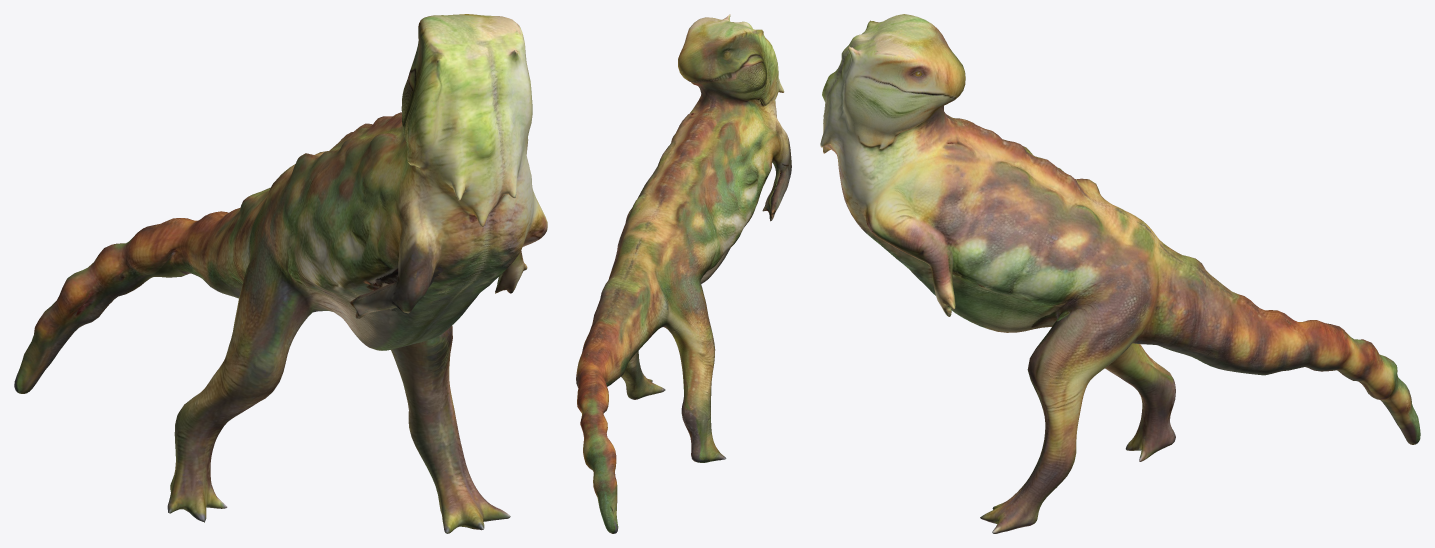
File: 19 Jakapil 3D.glb
3 renders of one model, left to right at view 1: azimuth 30°, elevation 25°; view 2: azimuth 150°, elevation 25°; view 3: azimuth 270°, elevation 25°, orthographic. The views are drawn at different scales.
Parts seen in each view (by area): view 1: Mesh0; view 2: Mesh0; view 3: Mesh0.
Boxes of the visible parts, x1,y1,x2,y2 form: Mesh0: [14, 14, 547, 533]; Mesh0: [576, 14, 791, 533]; Mesh0: [820, 14, 1420, 533].
Size of the model in its own units: 5.55 by 12.04 by 13.85.
1 material, 1 textured.
